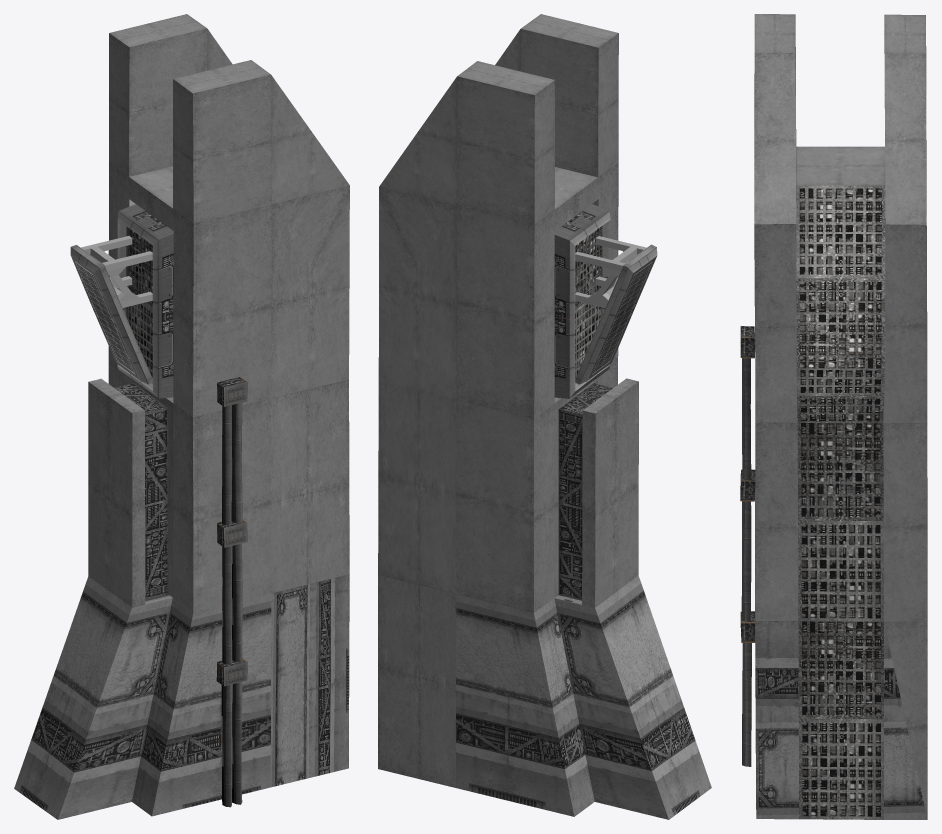
File: Building-Tower.fbx
3 views of the same model, side by side, from view 1: azimuth 30°, elevation 25°; view 2: azimuth 150°, elevation 25°; view 3: azimuth 270°, elevation 25° (orthographic). The views are drawn at different scales.
Visible parts, largest first — view 1: north:polySurface7780; view 2: north:polySurface7780; view 3: north:polySurface7780.
Boxes of the visible parts, x1=… form: north:polySurface7780: x1=14, y1=14, x2=349, y2=819; north:polySurface7780: x1=378, y1=14, x2=711, y2=819; north:polySurface7780: x1=740, y1=14, x2=927, y2=819.
Size of the model in its own units: 1.14 by 2.87 by 0.6662.
8 materials, 6 textured.
